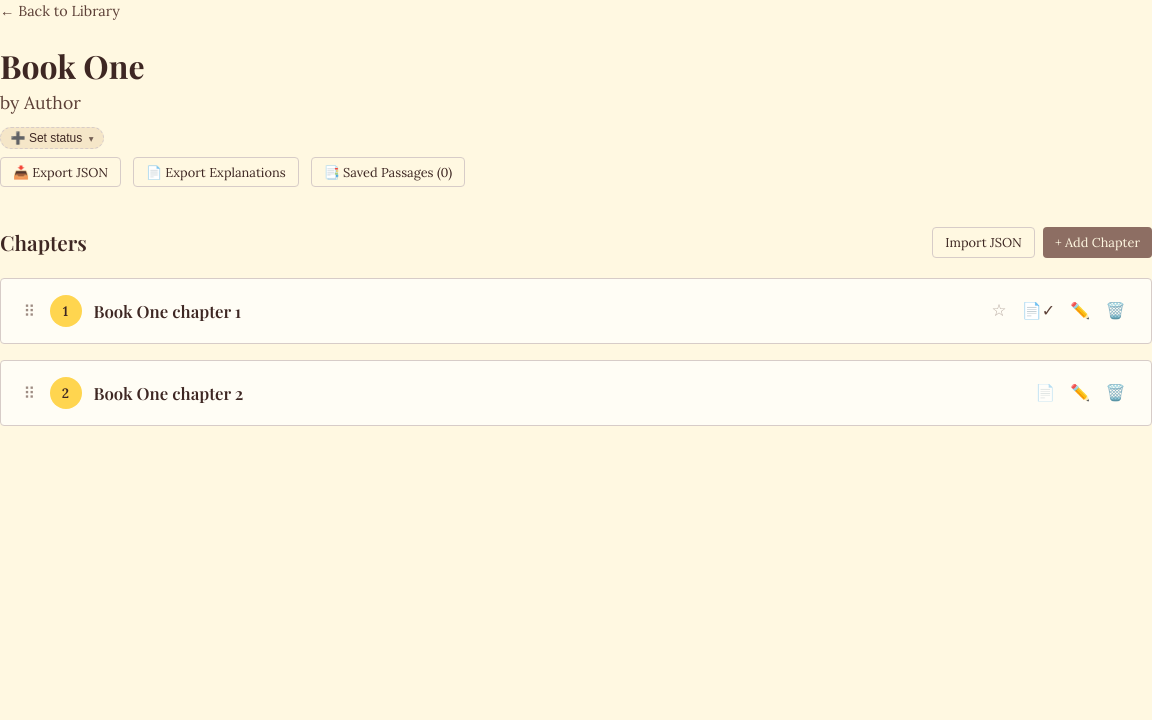
it: book page failures › keeps the confirmation open when a delete fails, and a retry can succeed
Click the button titled "Delete chapter" in the row of "Book One chapter 1" at [1115, 311], box [1100,295,1131,327]
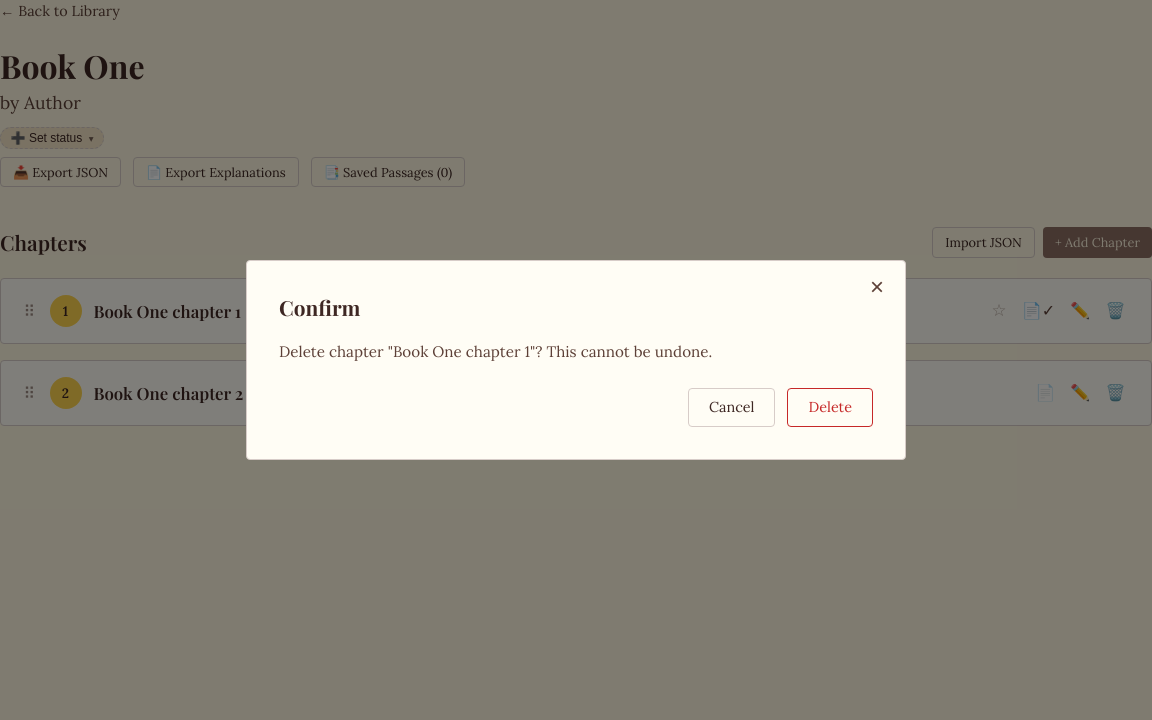
Click the button "Delete" at [830, 407], box [788,388,873,427]
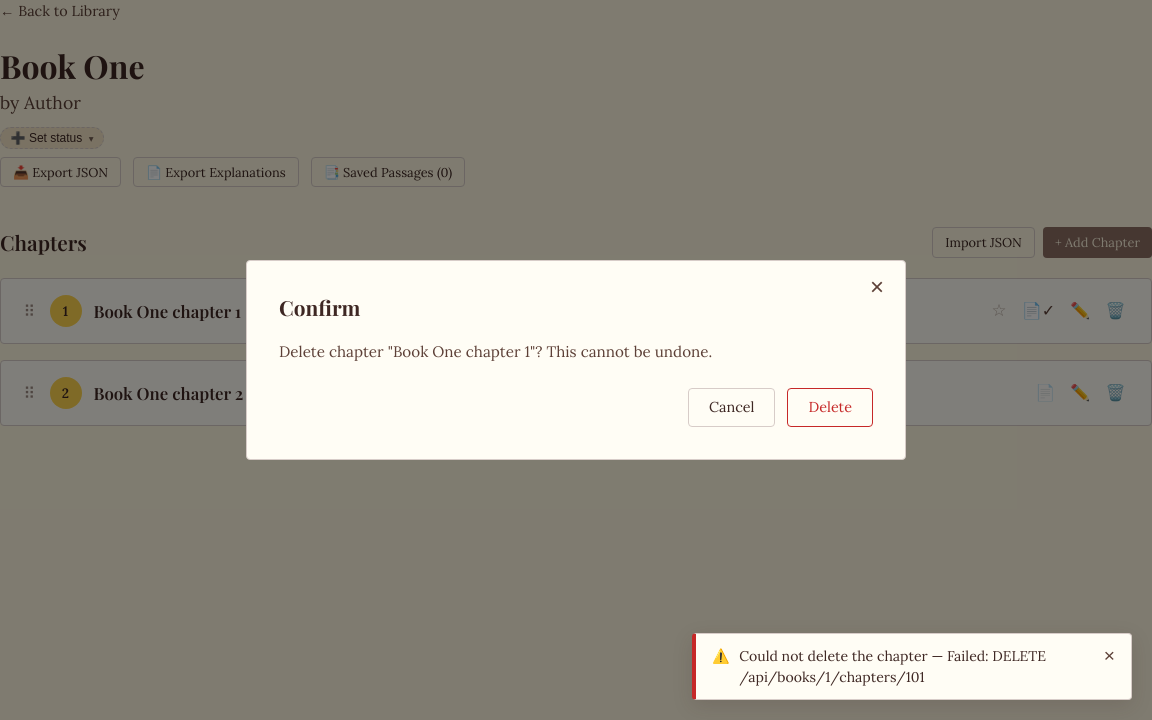
Now the text "Delete chapter \"Book One chapter 1\"? This cannot be undone." is shown, box [279,342,712,361]
Now the button "Delete" is enabled
Now the message shows "Could not delete the chapter — Failed: DELETE /api/books/1/chapters/101", box [739,647,1046,686]
Click the button "Delete" at [830, 407], box [788,388,873,427]
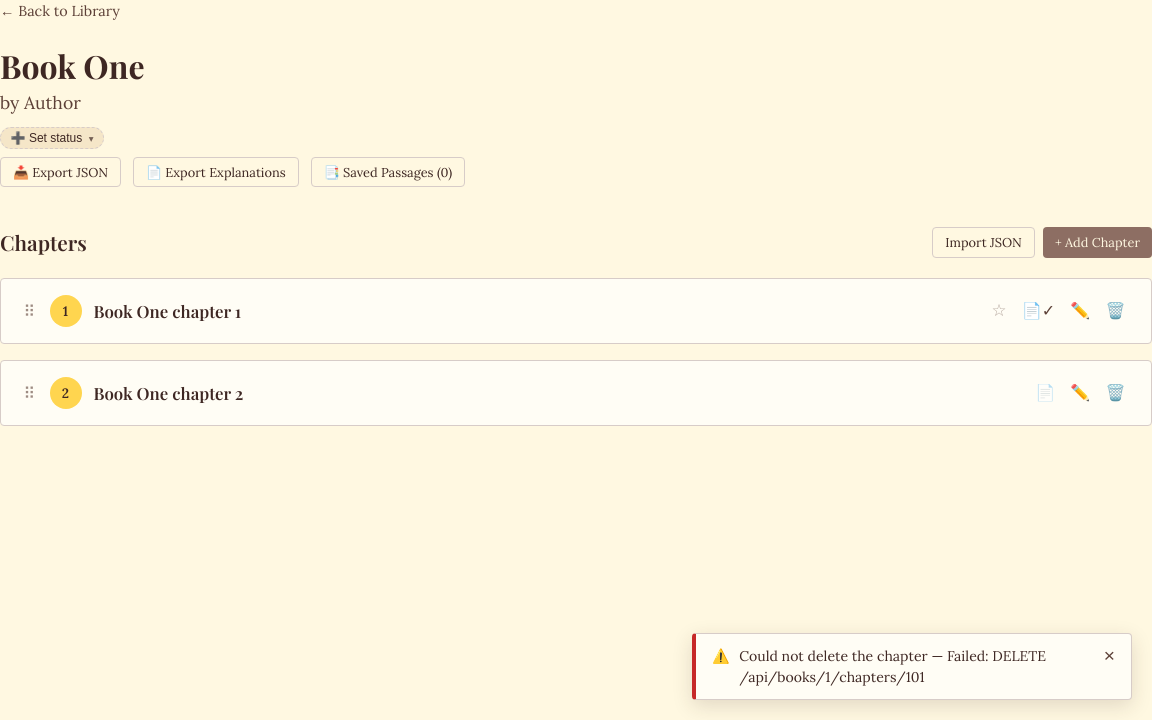
Now the text "This cannot be undone" is gone
